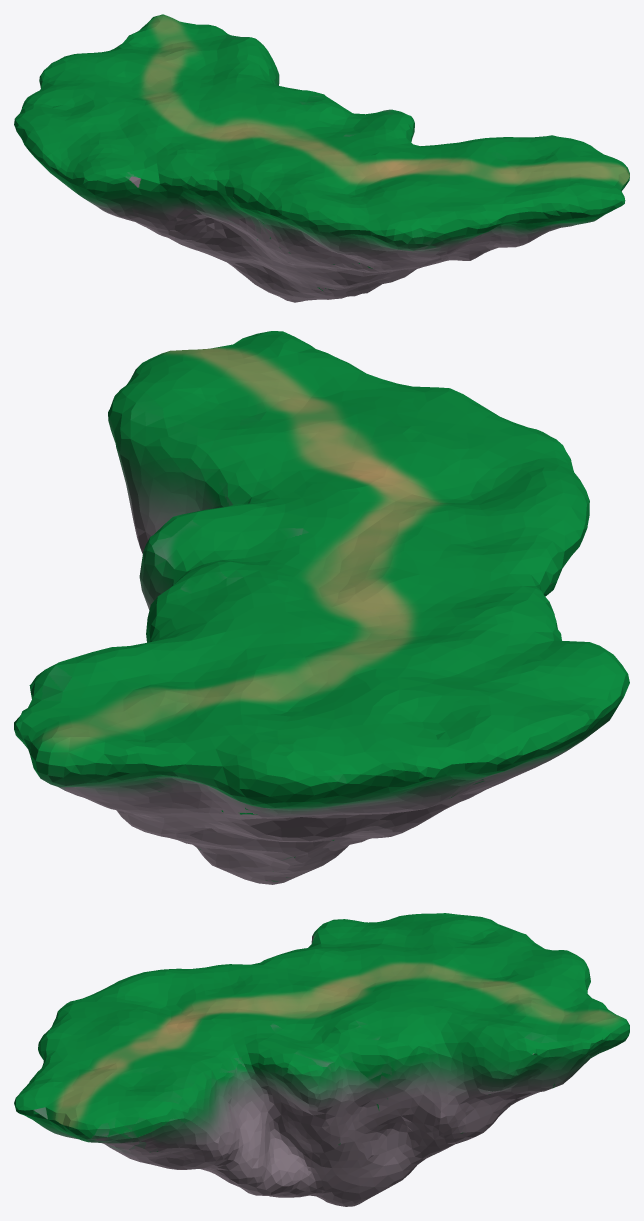
Rendered from Map1_Island2.fbx.
3 renders of one model, top to bottom at view 1: azimuth 30°, elevation 25°; view 2: azimuth 150°, elevation 25°; view 3: azimuth 270°, elevation 25°, orthographic. The views are drawn at different scales.
Parts seen in each view (by area): view 1: Map1_Island2_LOD0; view 2: Map1_Island2_LOD0; view 3: Map1_Island2_LOD0.
Boxes of the visible parts, box(x1,y1,x2,y2) form: Map1_Island2_LOD0: box(14, 14, 629, 302); Map1_Island2_LOD0: box(14, 331, 629, 884); Map1_Island2_LOD0: box(14, 913, 629, 1206).
Size of what is drawn, in the model's own units: 543 by 229 by 663.
